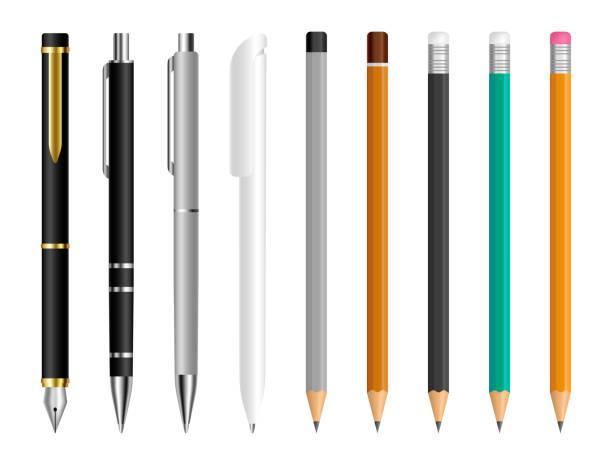Ballpen: (230, 34, 266, 433), (166, 33, 198, 432), (102, 33, 133, 432)
